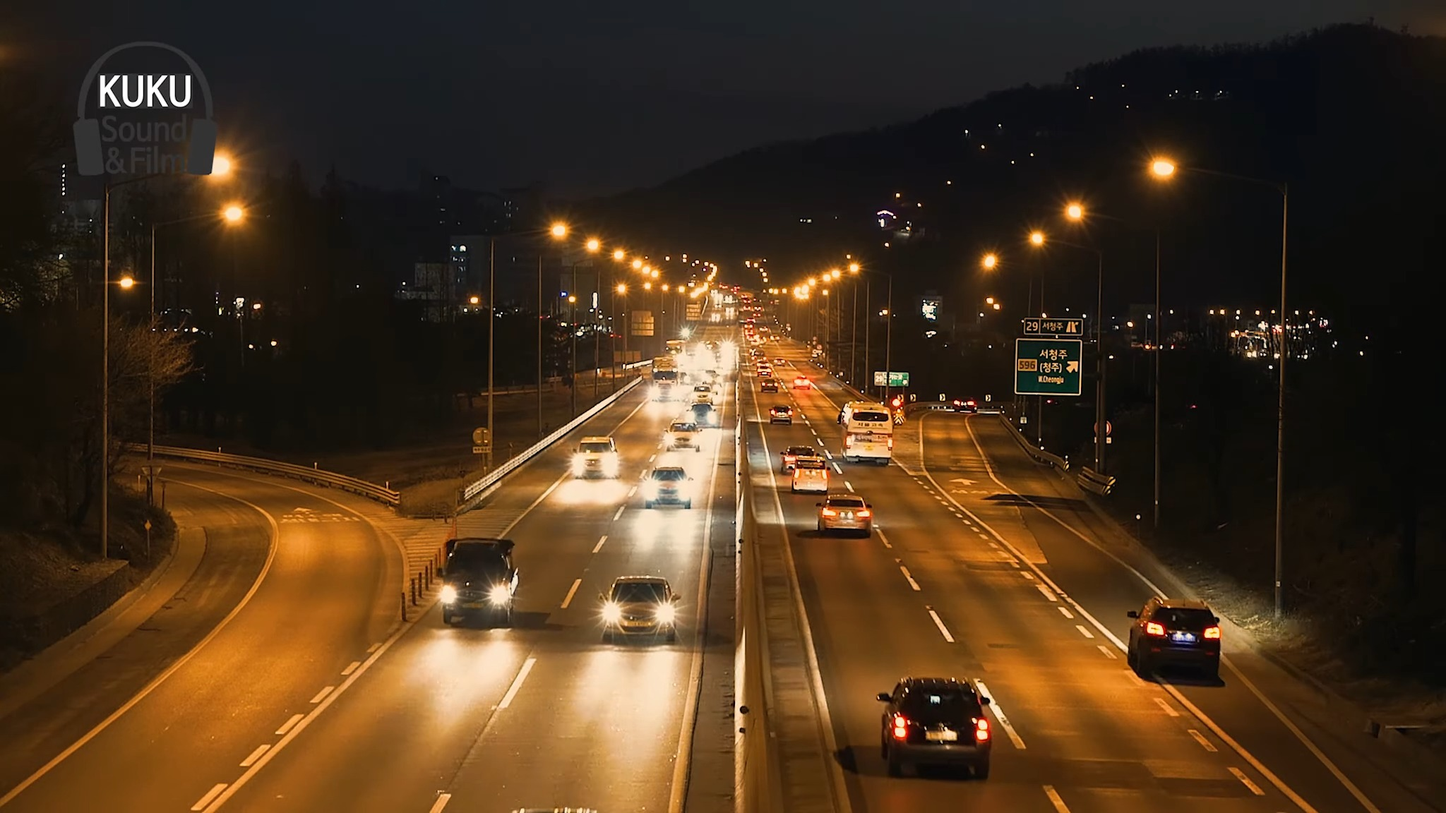car: (876, 674, 994, 771), (1123, 593, 1227, 682), (431, 549, 518, 635), (600, 581, 677, 641), (835, 406, 902, 466), (569, 433, 620, 484), (816, 491, 870, 538), (641, 464, 691, 509)
